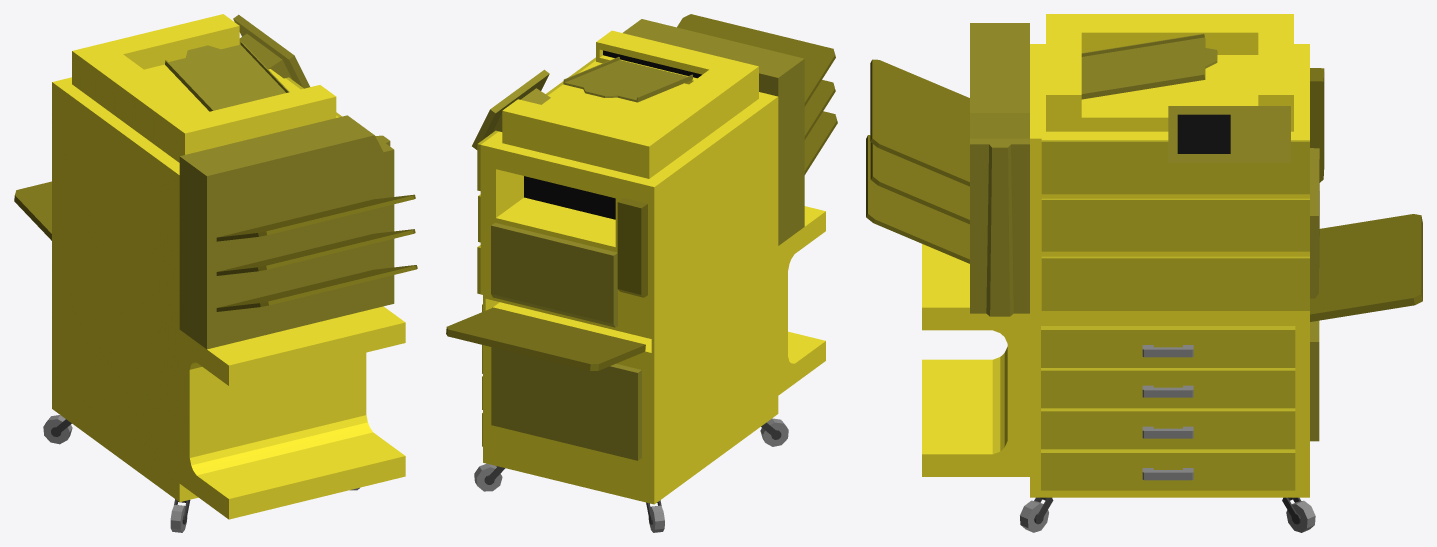
File: xerox.fbx
3 views of the same model, side by side, from view 1: azimuth 30°, elevation 25°; view 2: azimuth 150°, elevation 25°; view 3: azimuth 270°, elevation 25° (orthographic). The views are drawn at different scales.
Visible parts, largest first — view 1: Impressora; view 2: Impressora; view 3: Impressora.
Part boxes in pixels (<box>): Impressora: <box>14,14,417,532</box>; Impressora: <box>446,14,837,532</box>; Impressora: <box>866,14,1422,532</box>.
Bounding box in the file's own units: 281 × 517 × 596.
